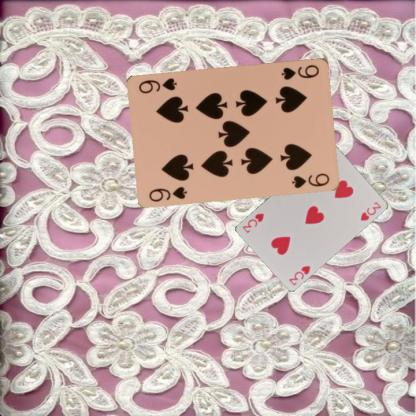3h: (287, 263, 312, 286)
9s: (147, 183, 188, 203), (278, 62, 321, 81)
